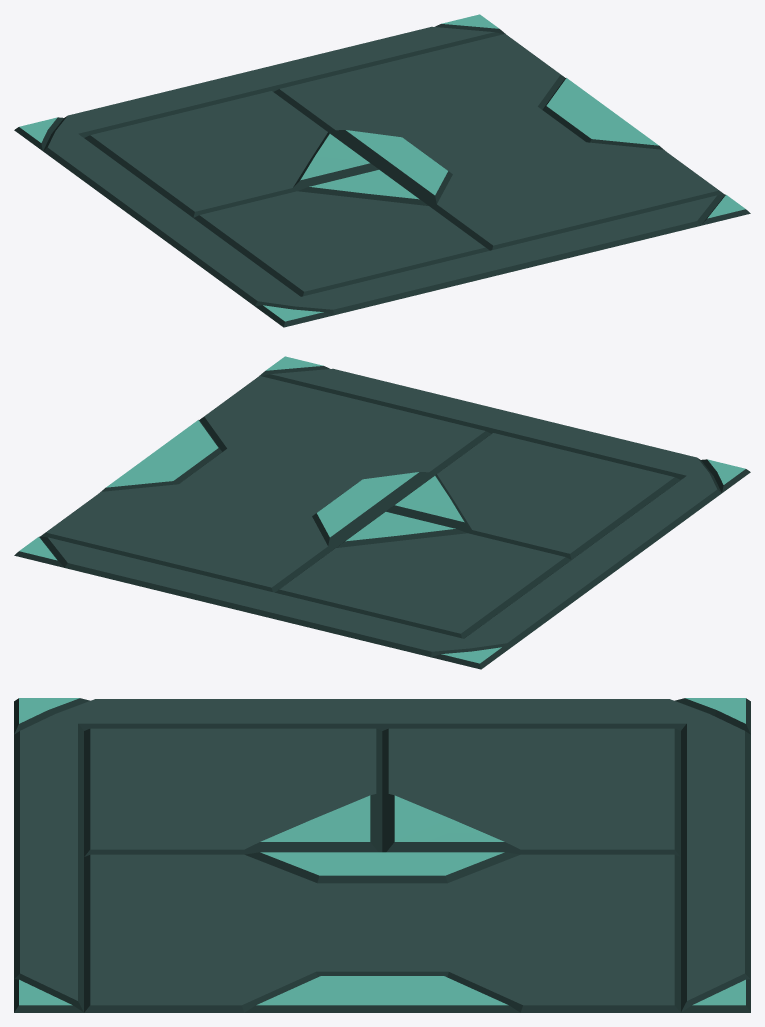
The model's file is Ground_Var08.fbx.
3 views of the same model, one above another, from view 1: azimuth 30°, elevation 25°; view 2: azimuth 150°, elevation 25°; view 3: azimuth 270°, elevation 25° (orthographic). The views are drawn at different scales.
Visible parts, largest first — view 1: Ground_Var08; view 2: Ground_Var08; view 3: Ground_Var08.
Boxes of the visible parts, x1,y1,x2,y2 form: Ground_Var08: [14, 14, 750, 327]; Ground_Var08: [14, 356, 750, 669]; Ground_Var08: [14, 698, 750, 1012].
Size of the model in its own units: 600 by 8.95 by 600.
